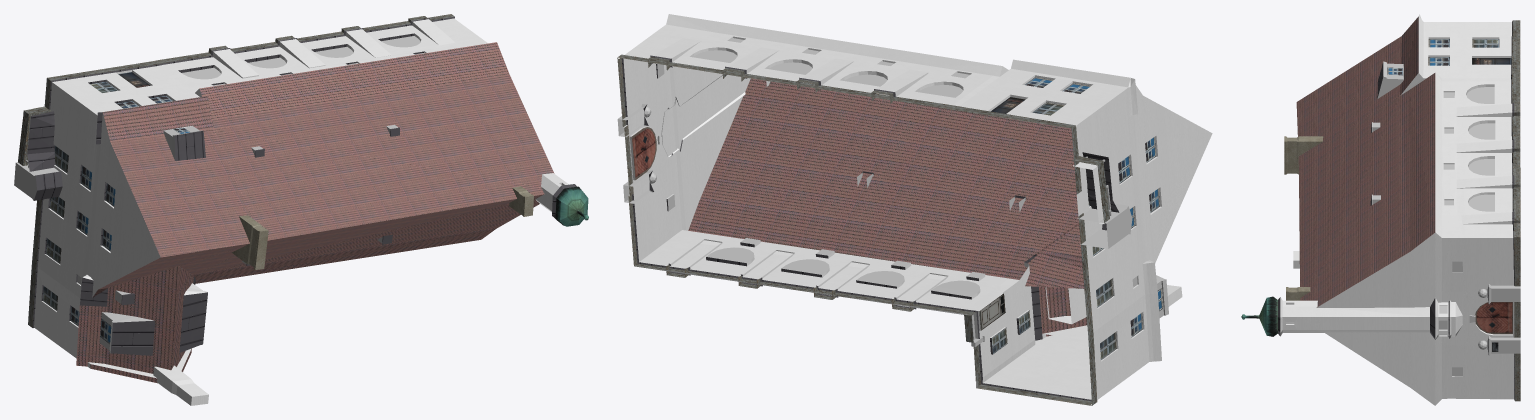
The model's file is mere_pst_3.obj.
3 views of the same model, side by side, from view 1: azimuth 30°, elevation 25°; view 2: azimuth 150°, elevation 25°; view 3: azimuth 270°, elevation 25° (orthographic). The views are drawn at different scales.
Parts seen in each view (by area): view 1: default; view 2: default; view 3: default.
Boxes of the visible parts, x1,y1,x2,y2 form: default: (14, 14, 588, 405); default: (617, 14, 1212, 405); default: (1241, 14, 1520, 405).
Size of the model in its own units: 32.55 by 18.02 by 19.
